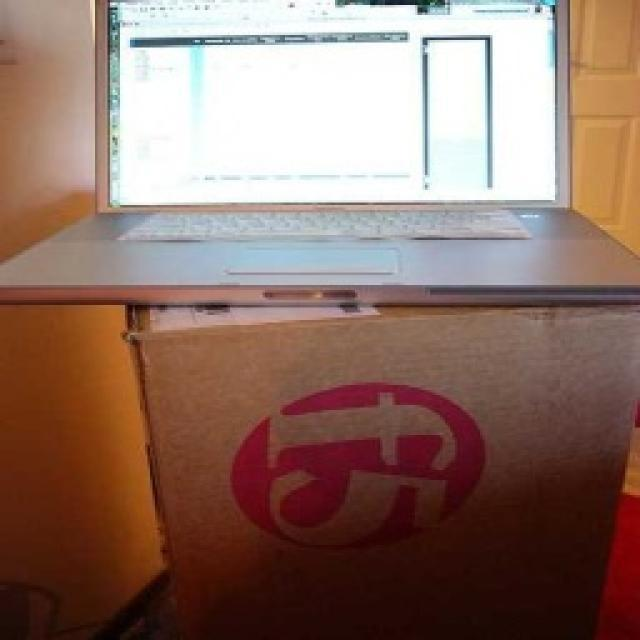box: (123, 271, 640, 640)
